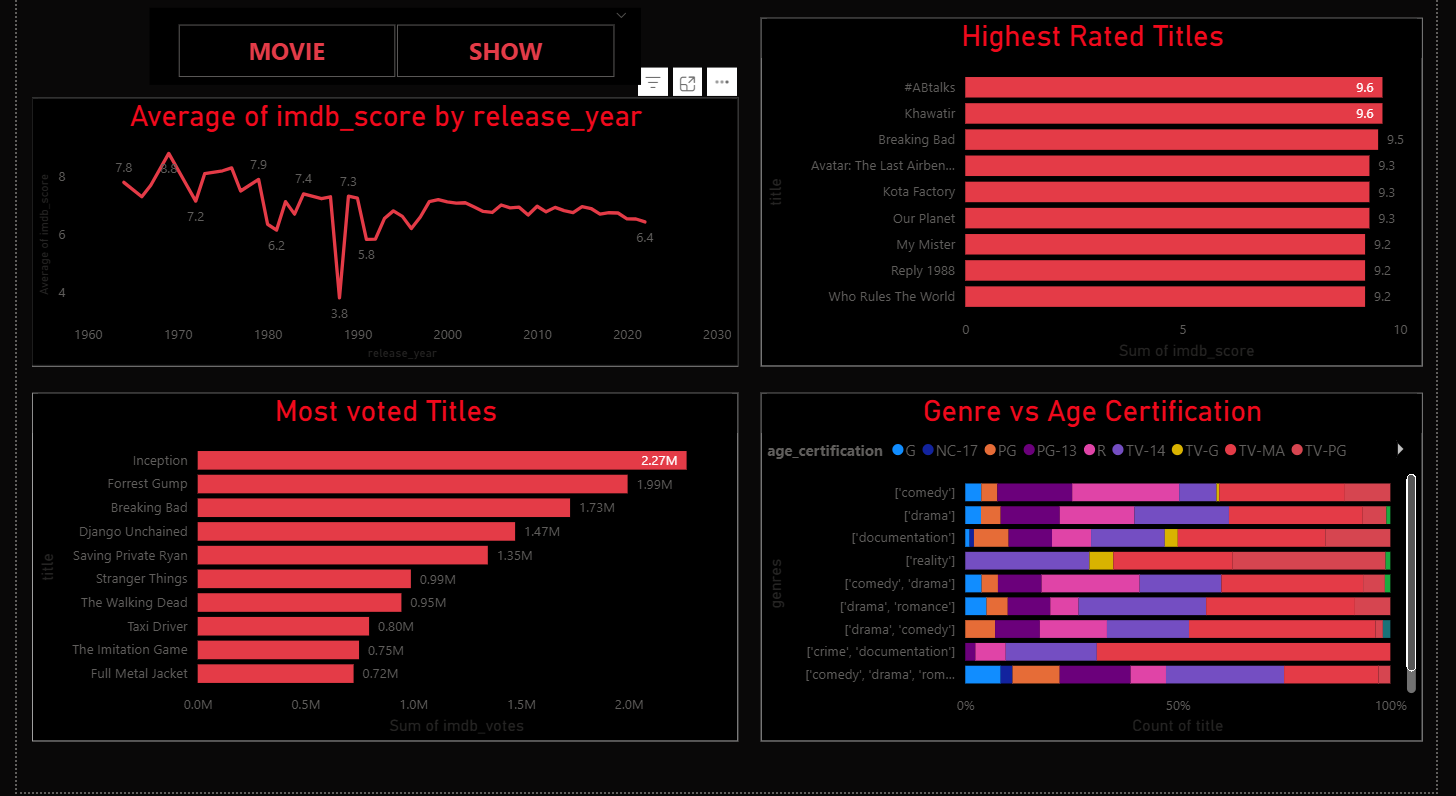

What the dashboard file says about the page in this screenshot:
{"tool":"powerbi","page":{"name":"Detailed analysis","canvas":[1280,720],"ordinal":1},"visuals":[{"type":"lineChart","fields":{"Category":["netflix (copy).release_year"],"Y":["Avg(netflix (copy).imdb_score)"]},"box":[13.7,93.3,636.9,242.6],"z":0},{"type":"clusteredBarChart","title":"Most voted Titles","fields":{"Category":["netflix (copy).title"],"Y":["Sum(netflix (copy).imdb_votes)"]},"box":[13.7,359.5,636.9,314.7],"z":1000},{"type":"hundredPercentStackedBarChart","title":"Genre vs Age Certification","fields":{"Category":["netflix (copy).genres"],"Series":["netflix (copy).age_certification"],"Y":["CountNonNull(netflix (copy).title)"]},"box":[670.5,359.5,597.1,314.7],"z":2000},{"type":"barChart","title":"Highest Rated Titles","fields":{"Category":["netflix (copy).title"],"Y":["Sum(netflix (copy).imdb_score)"]},"box":[670.5,21.1,597.1,314.7],"z":3000},{"type":"slicer","fields":{"Values":["netflix (copy).type"]},"box":[119.4,12.4,442.8,69.7],"z":4000}]}

Visuals, with their boxes in screenshot pixels (x1, y1, x2, y2), scaled from the page's 1280x720 canvas onto the 1456x796 screenshot:
lineChart - netflix (copy).release_year x Avg(netflix (copy).imdb_score): [16,103,740,371]
"Most voted Titles" clusteredBarChart: [16,397,740,745]
"Genre vs Age Certification" hundredPercentStackedBarChart: [763,397,1442,745]
"Highest Rated Titles" barChart: [763,23,1442,371]
slicer - netflix (copy).type: [136,14,640,91]
